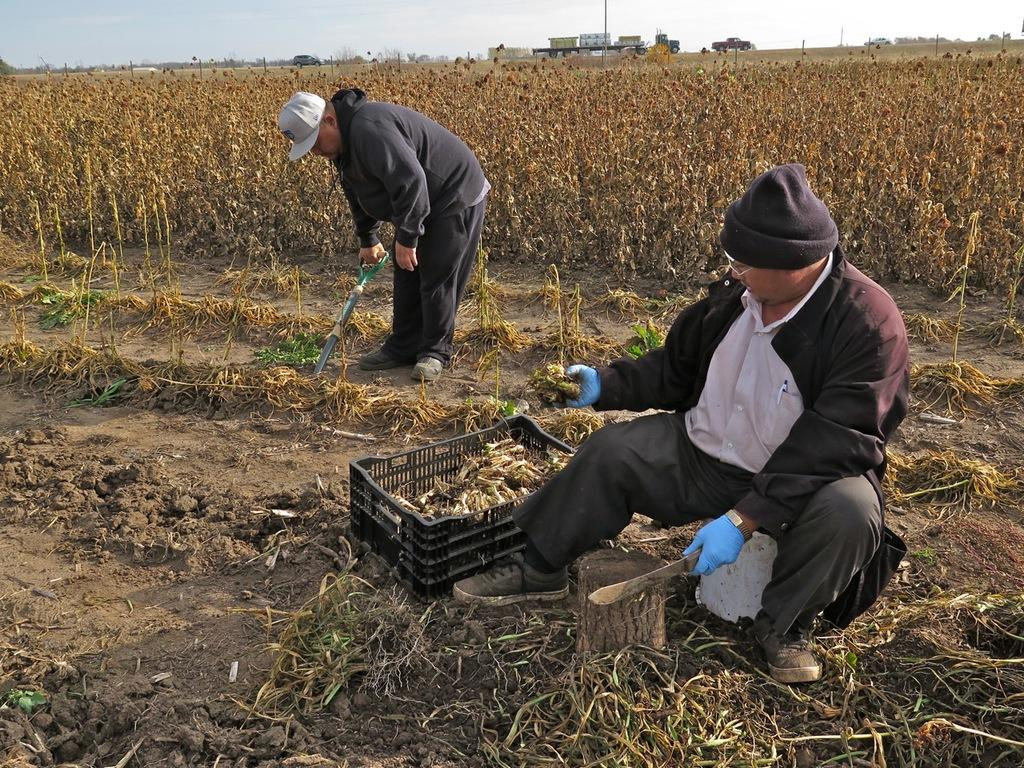Hat: (274, 90, 328, 160)
